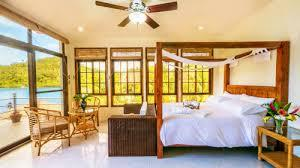bed: (159, 38, 278, 155)
chair: (20, 104, 72, 155), (76, 95, 104, 122)
fan: (91, 0, 183, 31)
light: (128, 9, 150, 27), (76, 25, 86, 35), (195, 24, 205, 33)
sofa: (108, 102, 157, 159)
table: (256, 121, 300, 168), (67, 107, 102, 141)
